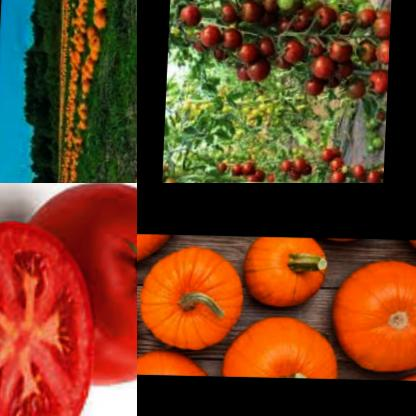pumpkin: (137, 238, 248, 351), (53, 0, 114, 183), (337, 252, 416, 372), (221, 310, 343, 377), (244, 234, 335, 300), (137, 342, 215, 375), (137, 231, 179, 271)
tomato: (17, 183, 137, 386), (0, 217, 103, 416), (182, 22, 273, 81), (276, 30, 356, 95), (280, 0, 392, 37), (341, 38, 391, 104), (173, 0, 284, 26), (319, 144, 386, 183), (217, 160, 272, 183), (281, 159, 315, 180)
